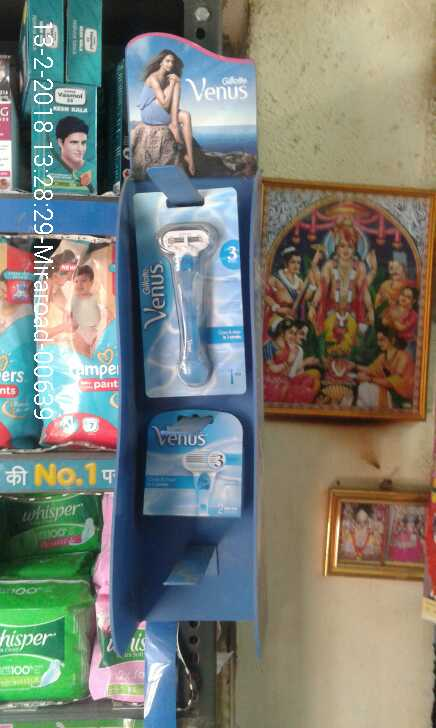beauty: (132, 183, 253, 402)
pharmacy: (29, 242, 124, 448), (1, 494, 96, 569)
